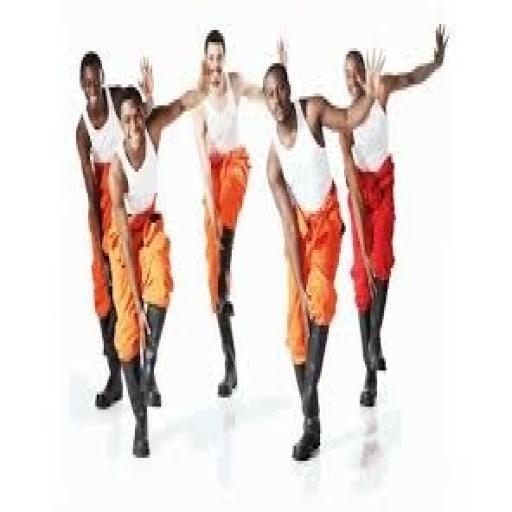dancing: (260, 39, 380, 464), (338, 18, 452, 413), (104, 54, 213, 461), (72, 48, 158, 416), (189, 27, 268, 404)
